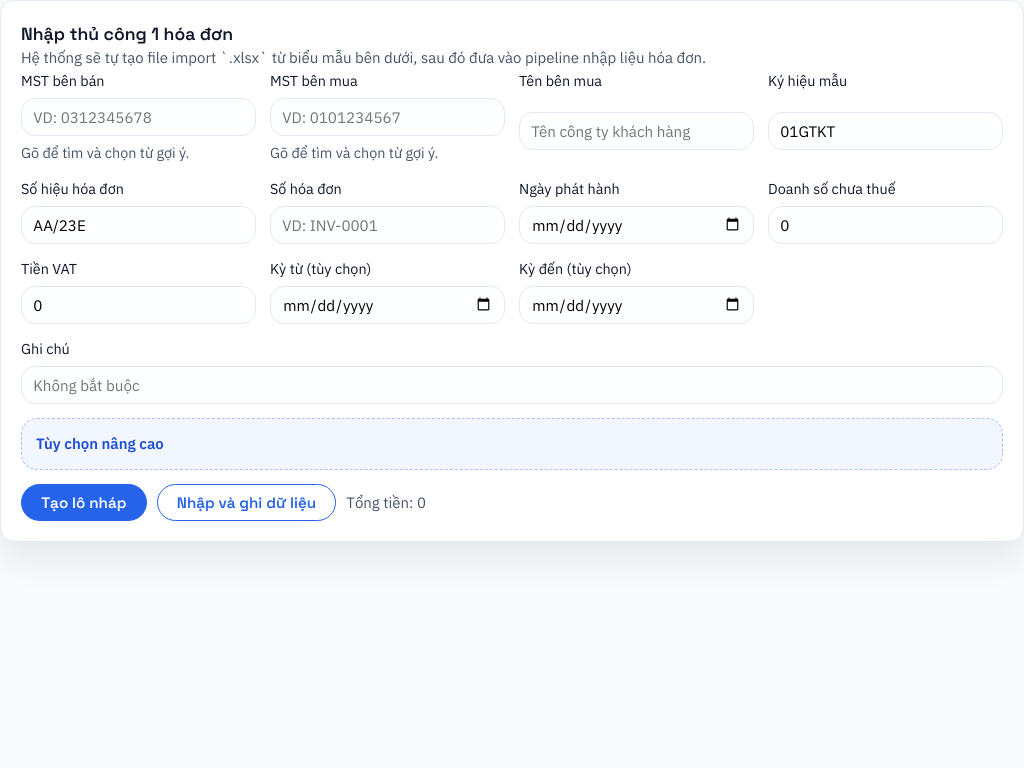
Test case: ManualInvoicesSection › stages one manual invoice via import pipeline
Type "0312345678" into the field labelled "MST bên bán". click: (138, 117)
box: [21,98,256,136]
Type "0101234567" into the field labelled "MST bên mua". click: (388, 117)
box: [270,98,505,136]
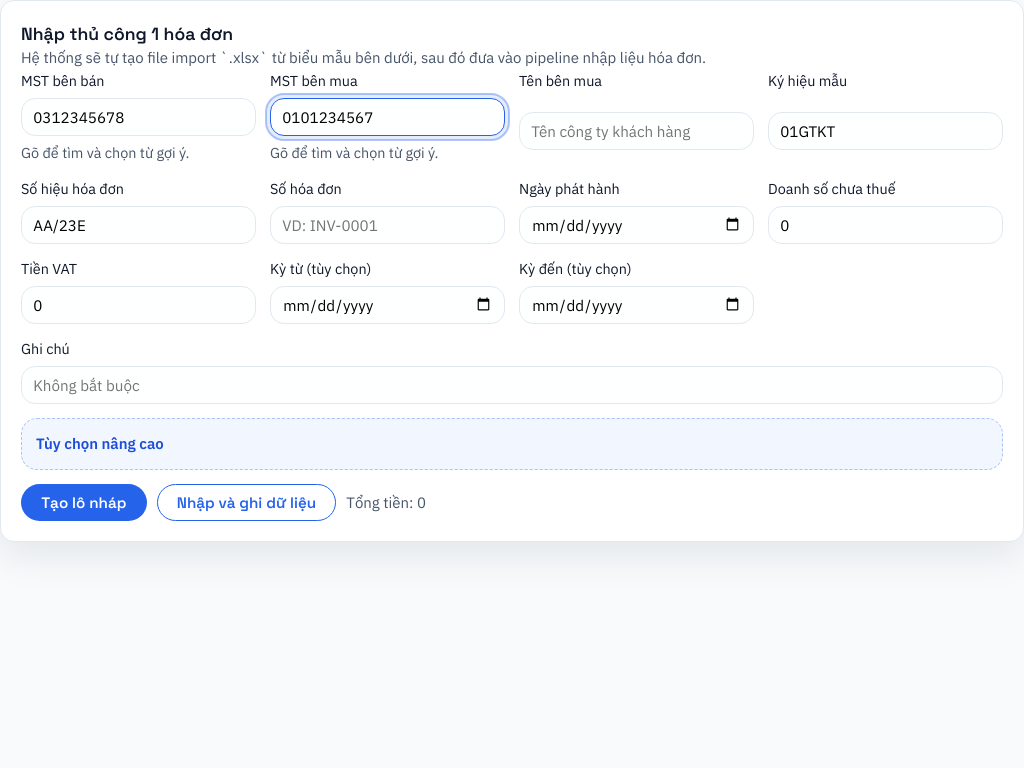
Type "INV-2026-0001" into the field labelled "Số hóa đơn". click: (388, 225)
box: [270,206,505,244]
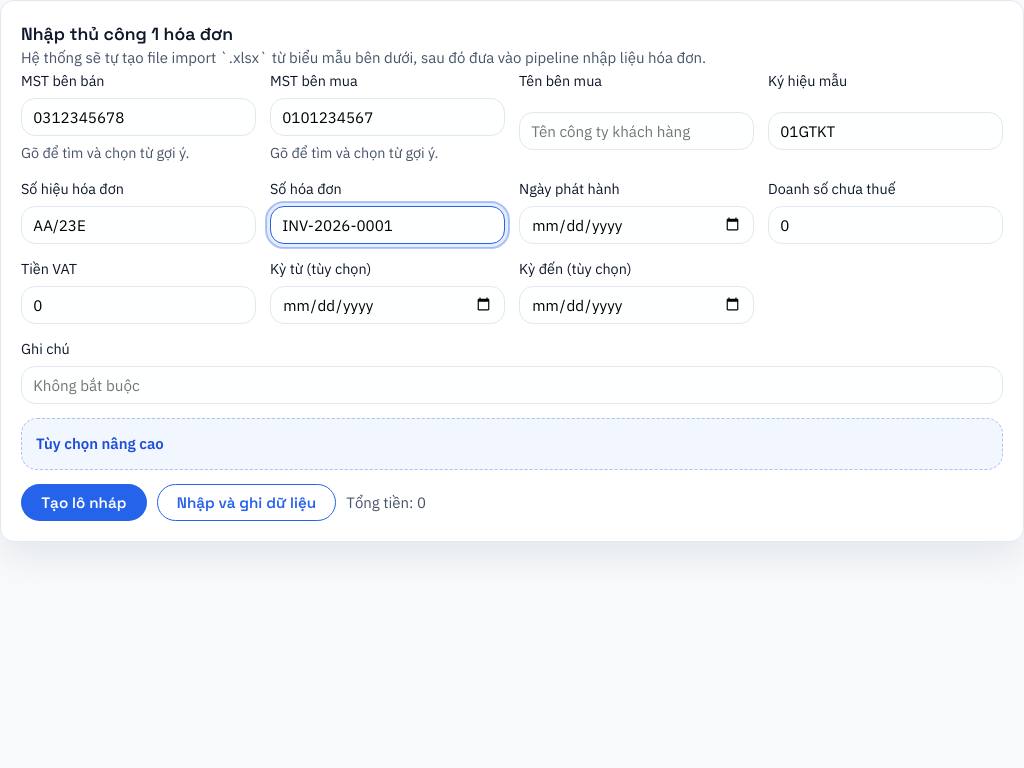
Type "2026-03-05" into the date field labelled "Ngày phát hành". click: (636, 225)
box: [519,206,754,244]
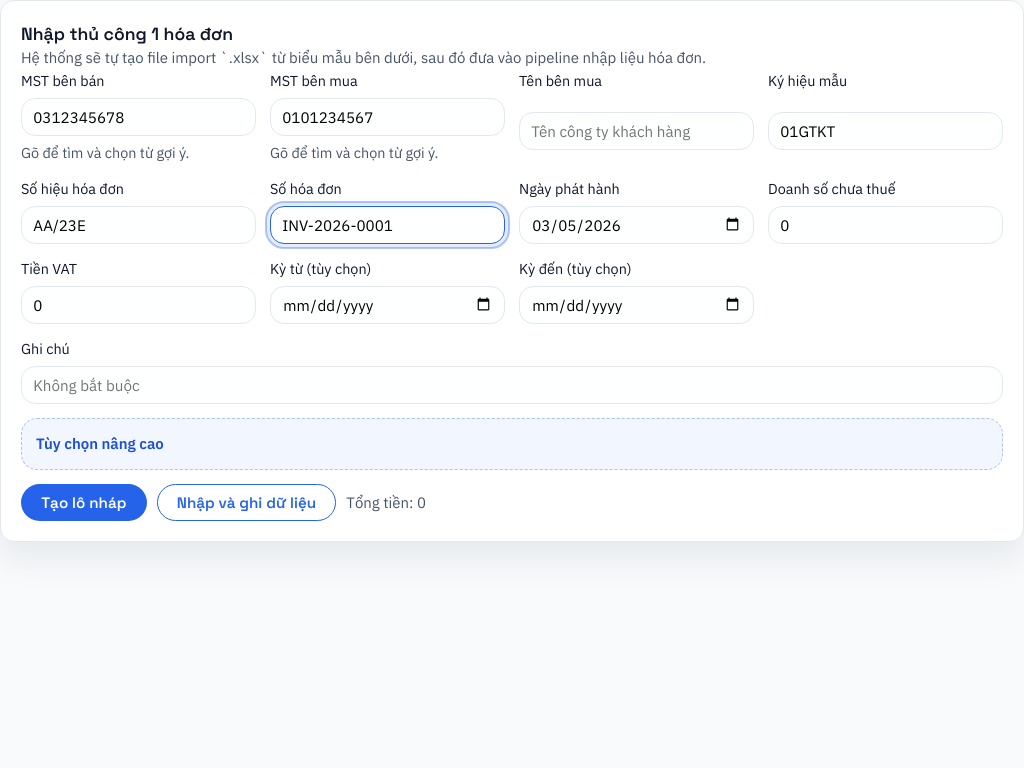
Replace the text in the field labelled "Doanh số chưa thuế" with "1000000". click: (886, 225)
box: [768,206,1003,244]
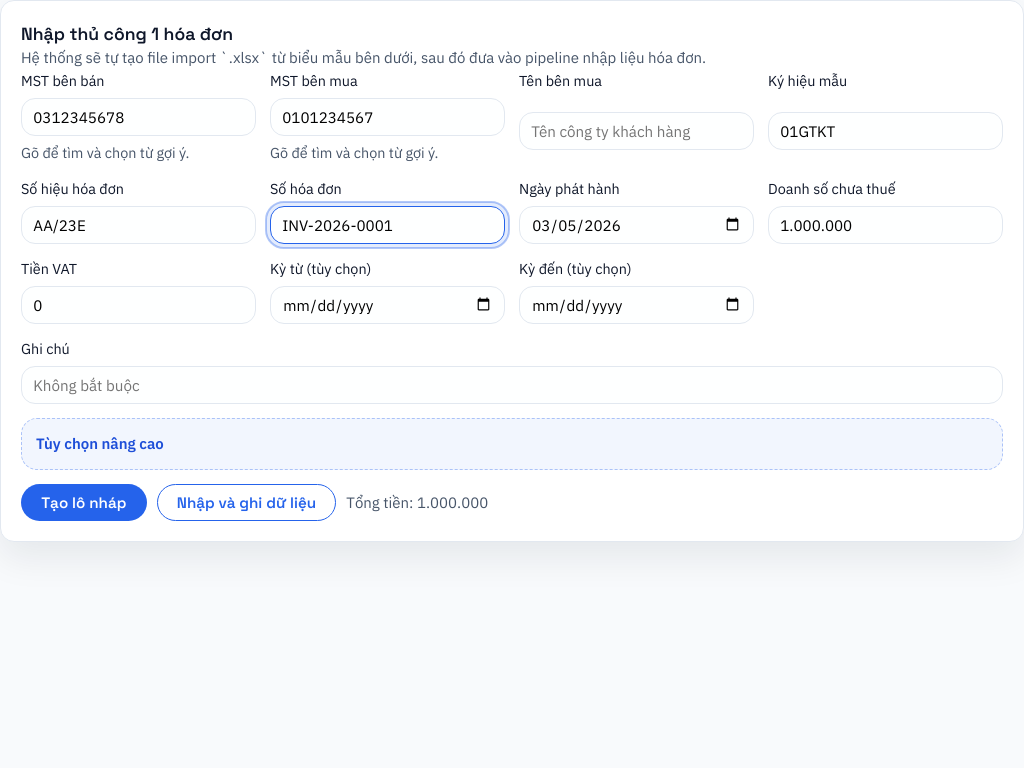
Replace the text in the field labelled "Tiền VAT" with "100000". click: (138, 305)
box: [21,286,256,324]
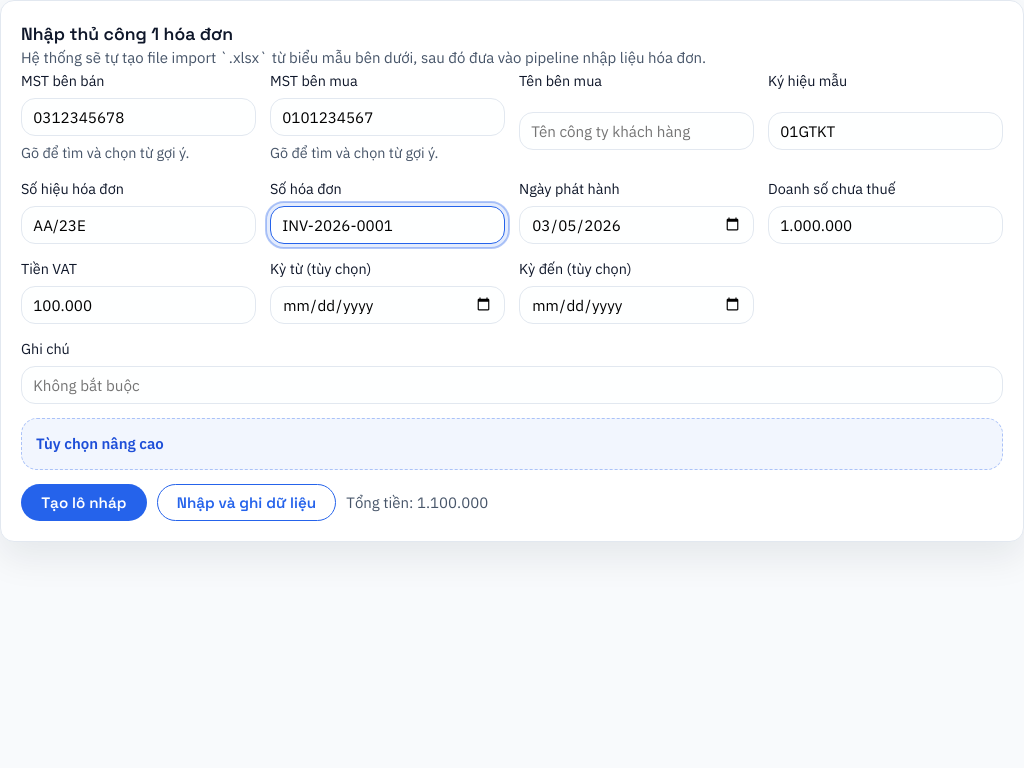
Click the button "Tạo lô nháp". click: (84, 503)
box: [21,484,146,521]
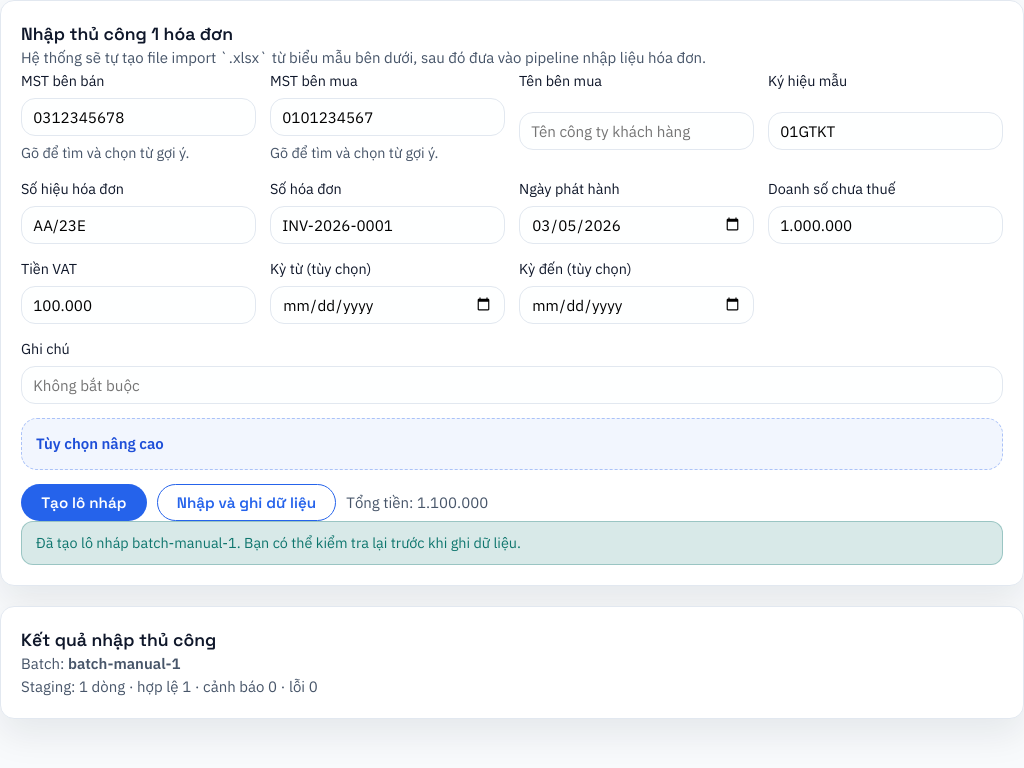
Check: the text "Đã tạo lô nháp batch-manual-1. Bạn có thể kiểm tra lại trước khi ghi dữ liệu." is shown, box [21,521,1003,565]
Check: the text "Batch: batch-manual-1" is shown, box [21,654,180,673]
Check: the text "batch-manual-1" is shown, box [68,654,180,673]
